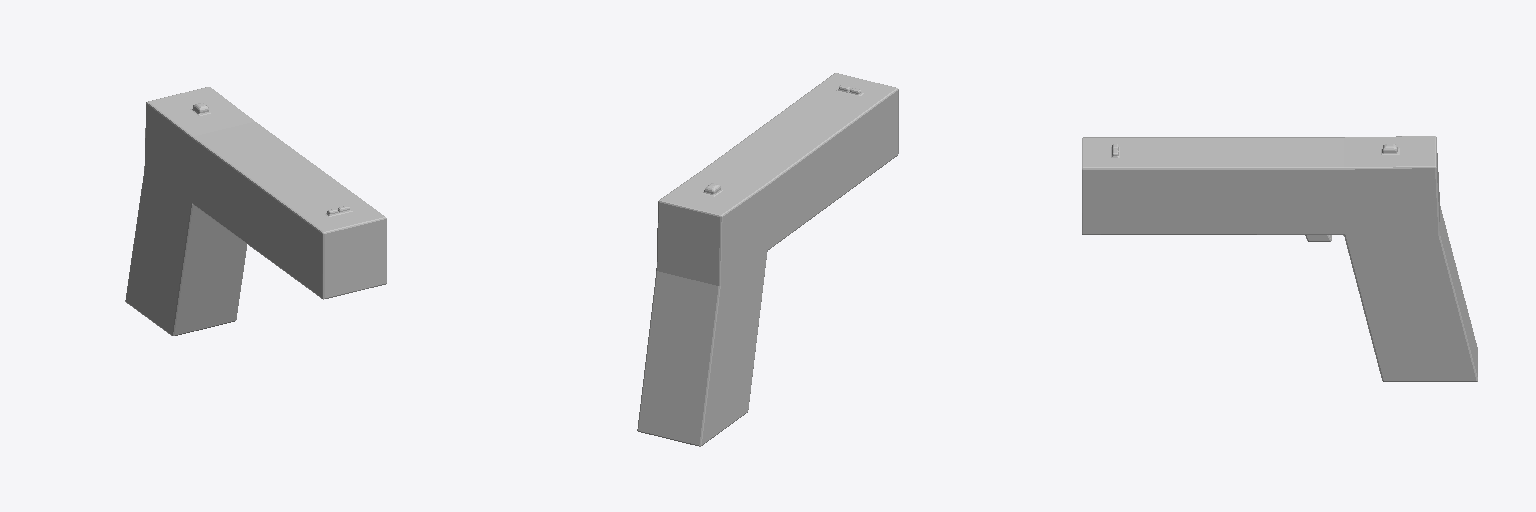
The model's file is gun.obj.
3 views of the same model, side by side, from view 1: azimuth 30°, elevation 25°; view 2: azimuth 150°, elevation 25°; view 3: azimuth 270°, elevation 25° (orthographic).
Parts seen in each view (by area): view 1: Cube_Cube.001; view 2: Cube_Cube.001; view 3: Cube_Cube.001.
Part boxes in pixels (left/top/right/bottom): Cube_Cube.001: left=125, top=87, right=386, bottom=335; Cube_Cube.001: left=637, top=73, right=898, bottom=446; Cube_Cube.001: left=1082, top=136, right=1477, bottom=381.
Bounding box in the file's own units: 0.8798 × 2.91 × 4.71.